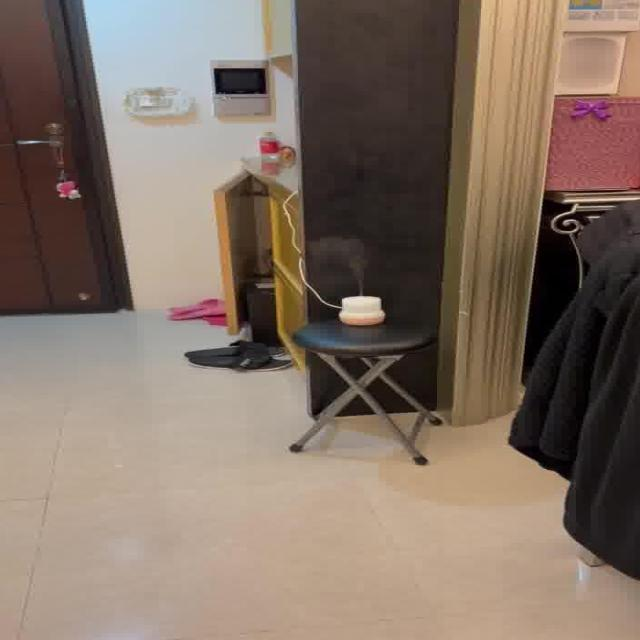fire: (314, 233, 372, 288)
